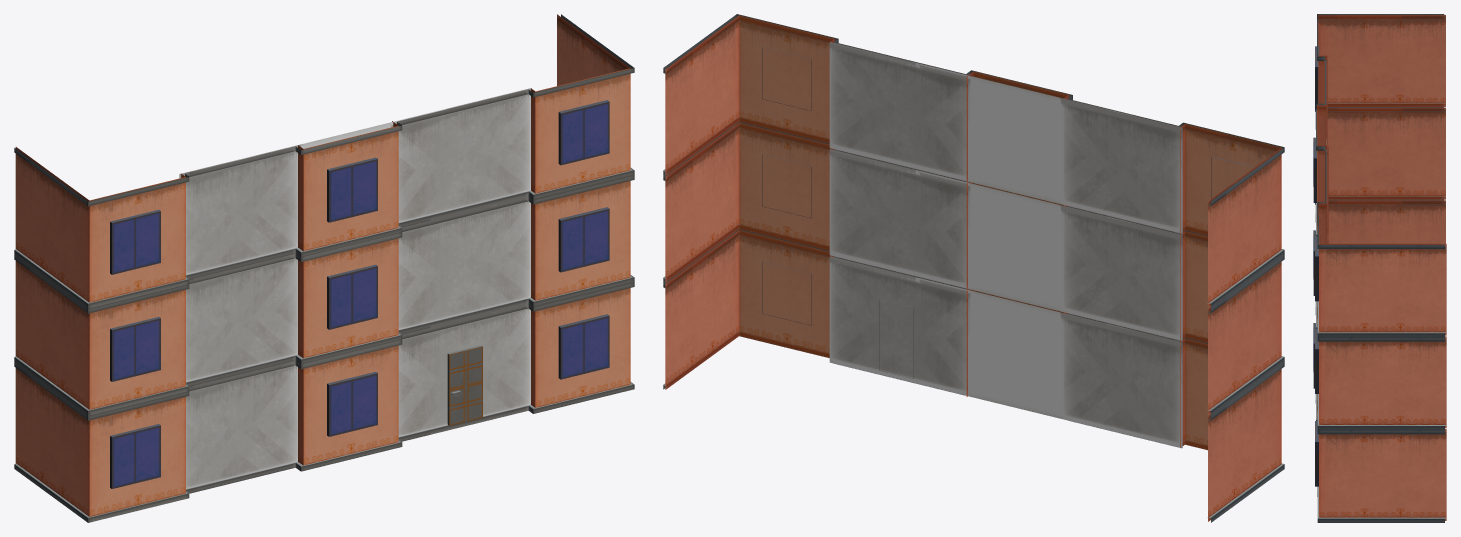
The model's file is House_3floors.fbx.
The picture shows the model from 3 angles, left to right: view 1: azimuth 30°, elevation 25°; view 2: azimuth 150°, elevation 25°; view 3: azimuth 270°, elevation 25°; orthographic projection. The views are drawn at different scales.
Visible parts, largest first — view 1: Cube.001; view 2: Cube.001; view 3: Cube.001.
Part boxes in pixels (x1,y1,x2,y2): Cube.001: (14,14,634,522); Cube.001: (663,14,1284,522); Cube.001: (1313,14,1446,522).
Size of the model in its own units: 1757 by 987 by 428.
